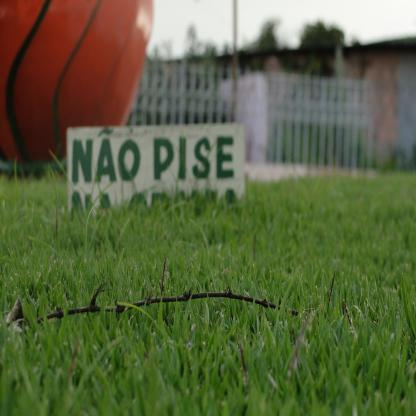Ball: (0, 0, 154, 166)
